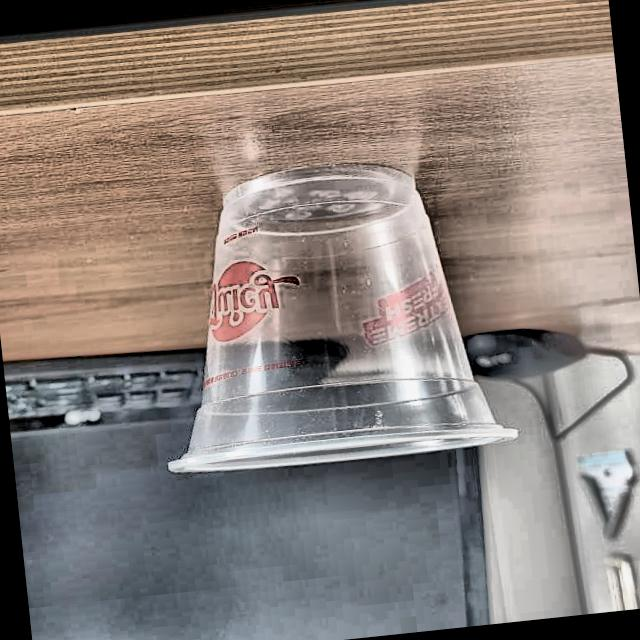plastic cup: (135, 152, 524, 483)
